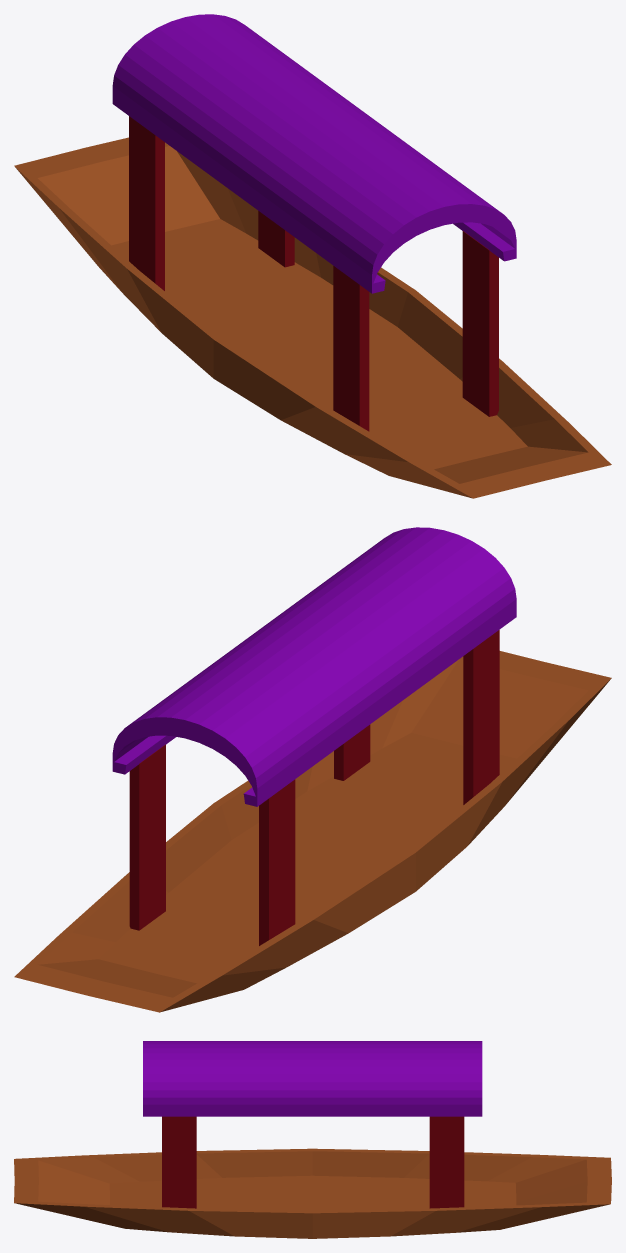
Rendered from Barca_Final.fbx.
3 renders of one model, top to bottom at view 1: azimuth 30°, elevation 25°; view 2: azimuth 150°, elevation 25°; view 3: azimuth 270°, elevation 25°, orthographic. The views are drawn at different scales.
Visible parts, largest first — view 1: Barca; view 2: Barca; view 3: Barca.
Part boxes in pixels (x1=…): Barca: x1=14, y1=14, x2=611, y2=498; Barca: x1=14, y1=527, x2=611, y2=1012; Barca: x1=14, y1=1041, x2=611, y2=1238.
Bounding box in the file's own units: 200 × 229 × 782.
